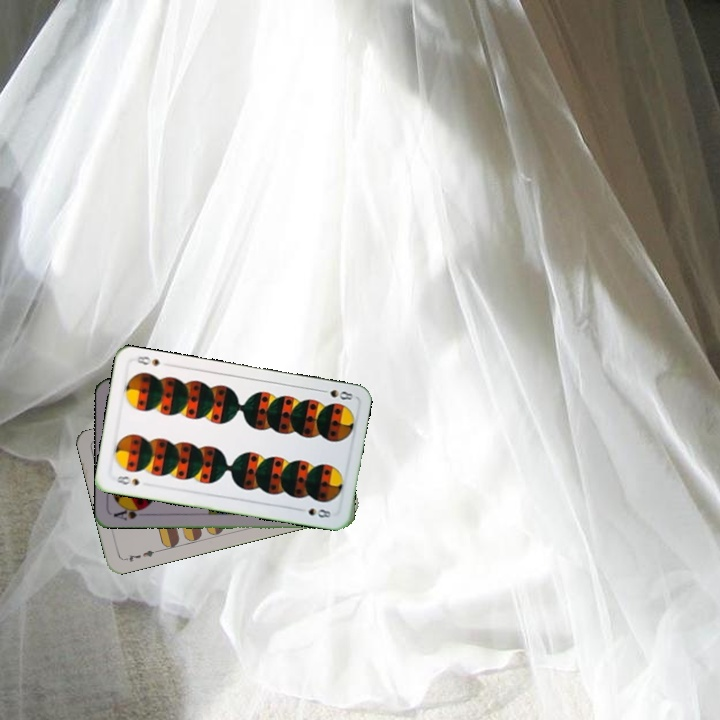E7: (120, 546, 160, 564)
S8: (315, 385, 356, 403), (112, 472, 142, 488)
SA: (109, 503, 150, 523)
